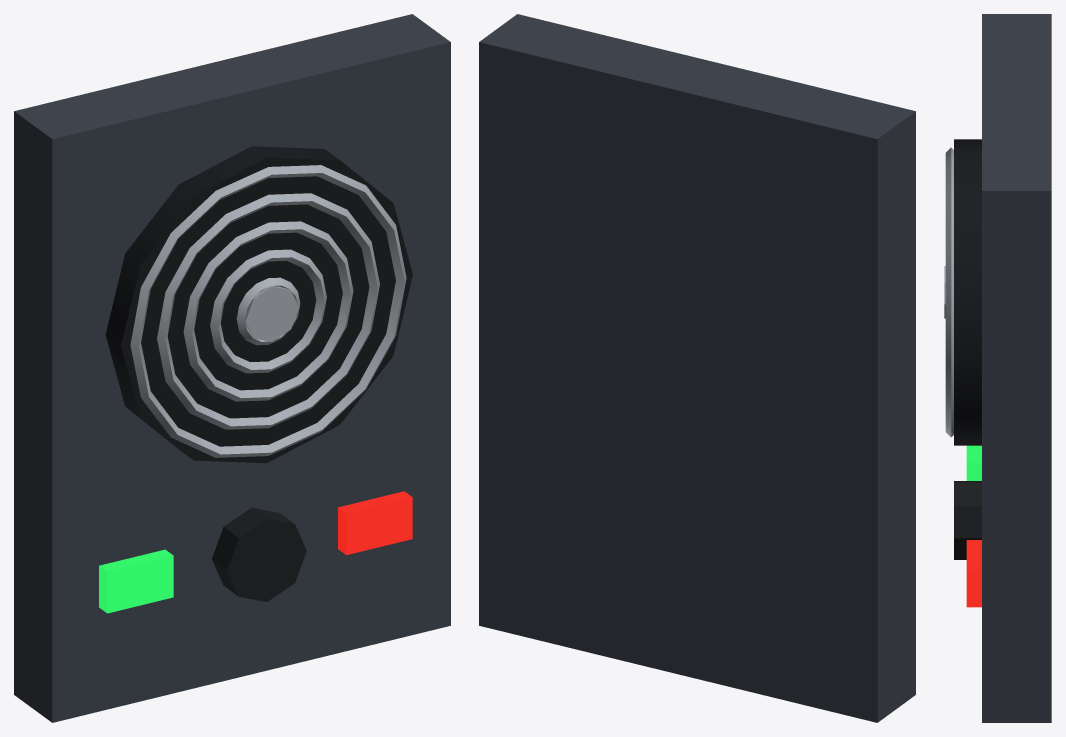
Rendered from beacon_intercom_speaker.glb.
3 renders of one model, left to right at view 1: azimuth 30°, elevation 25°; view 2: azimuth 150°, elevation 25°; view 3: azimuth 270°, elevation 25°, orthographic. The views are drawn at different scales.
Visible parts, largest first — view 1: beacon_intercom_speaker; view 2: beacon_intercom_speaker; view 3: beacon_intercom_speaker.
Boxes of the visible parts, left/top/right/bottom form: beacon_intercom_speaker: left=14, top=14, right=450, bottom=722; beacon_intercom_speaker: left=479, top=14, right=915, bottom=722; beacon_intercom_speaker: left=944, top=14, right=1051, bottom=722.
Size of the model in its own units: 0.3 by 0.42 by 0.077.
